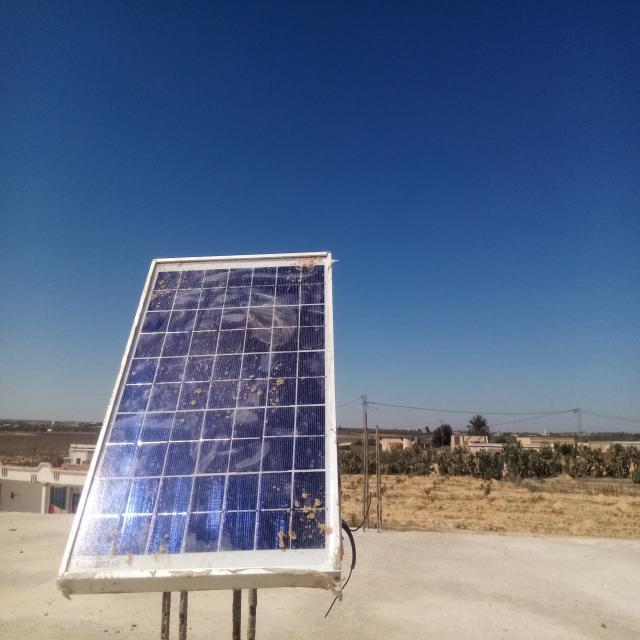faulty: (59, 251, 339, 578)
